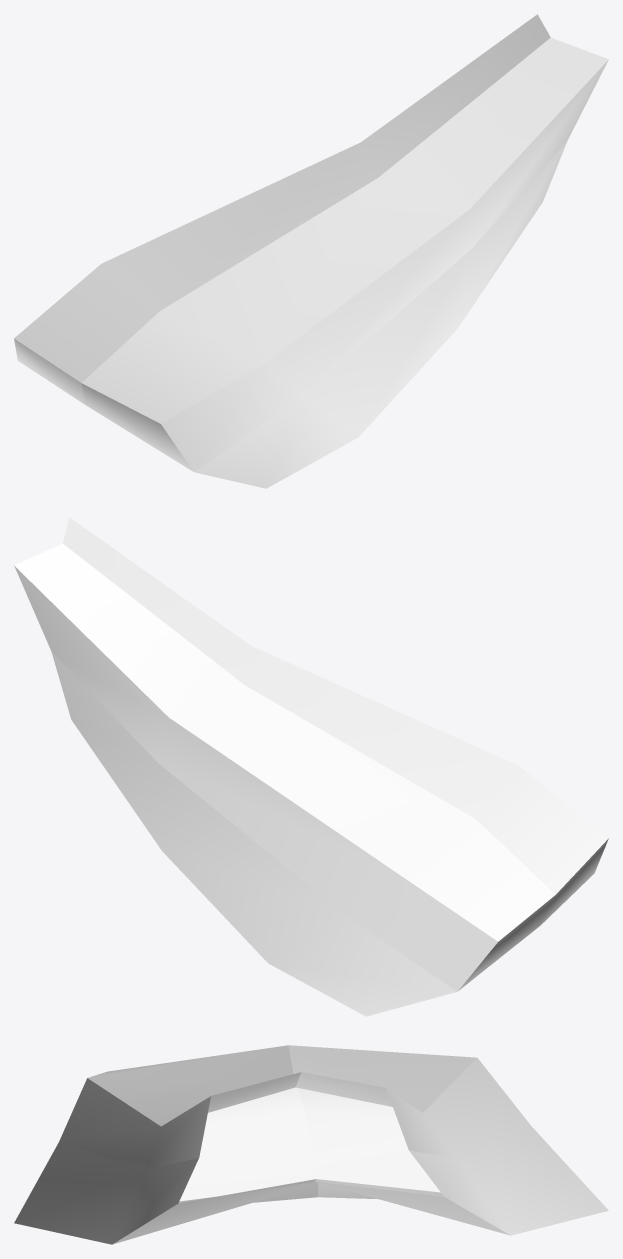
File: rhand.obj
The picture shows the model from 3 angles, top to bottom: view 1: azimuth 30°, elevation 25°; view 2: azimuth 150°, elevation 25°; view 3: azimuth 270°, elevation 25°; orthographic projection. The views are drawn at different scales.
Visible parts, largest first — view 1: pasted__pCube28 group; view 2: pasted__pCube28 group; view 3: pasted__pCube28 group.
Part boxes in pixels (box(x1,y1,x2,y2)): pasted__pCube28 group: box(14, 14, 608, 488); pasted__pCube28 group: box(14, 517, 608, 1016); pasted__pCube28 group: box(14, 1045, 608, 1244).
Size of the model in its own units: 3.22 by 1.77 by 2.35.
1 material, 1 textured.
